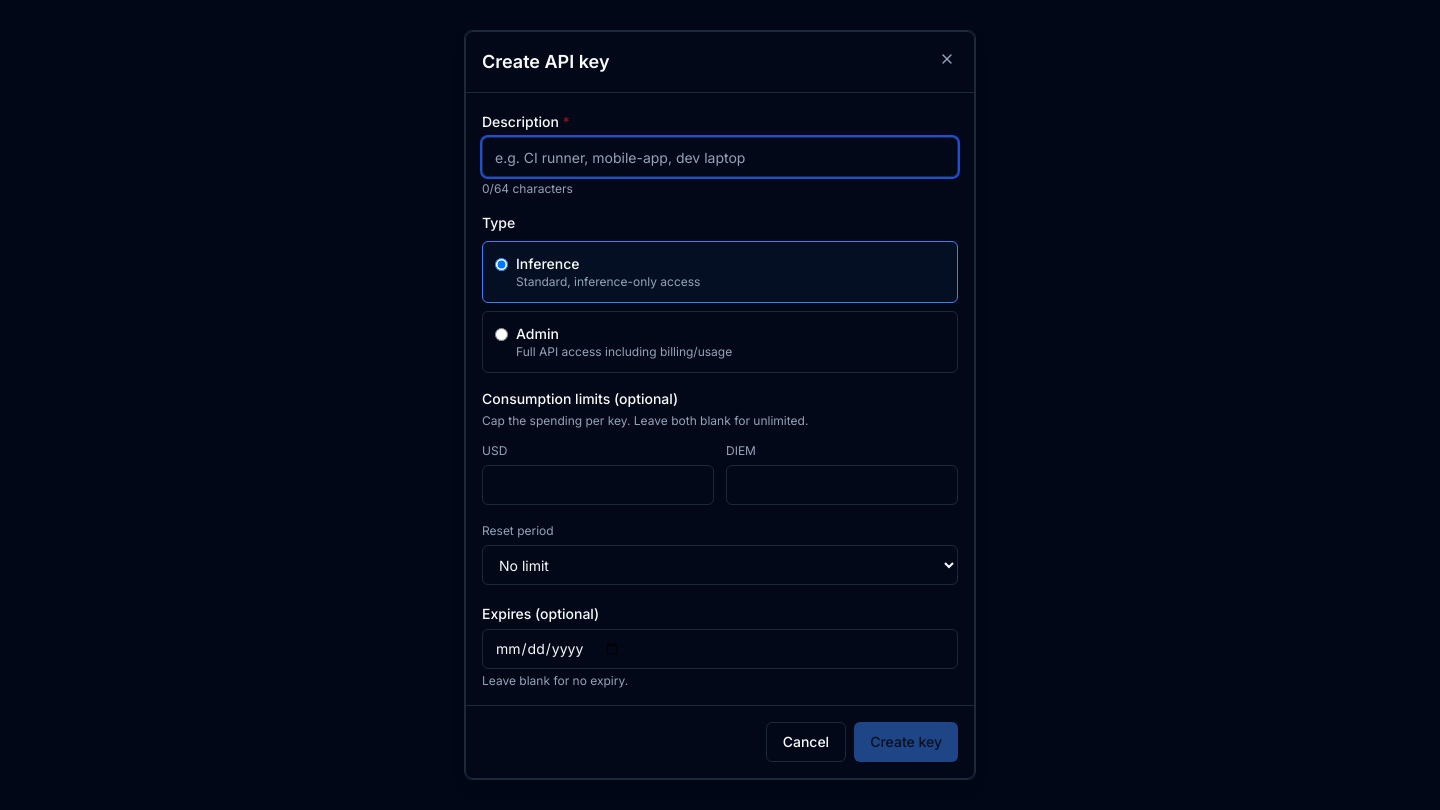
Test: ApiKeyFormModal — create mode › enables submit when description is non-empty
Type "Mobile app key" into the field labelled "Description *" at (720, 157), box [482, 137, 958, 177]
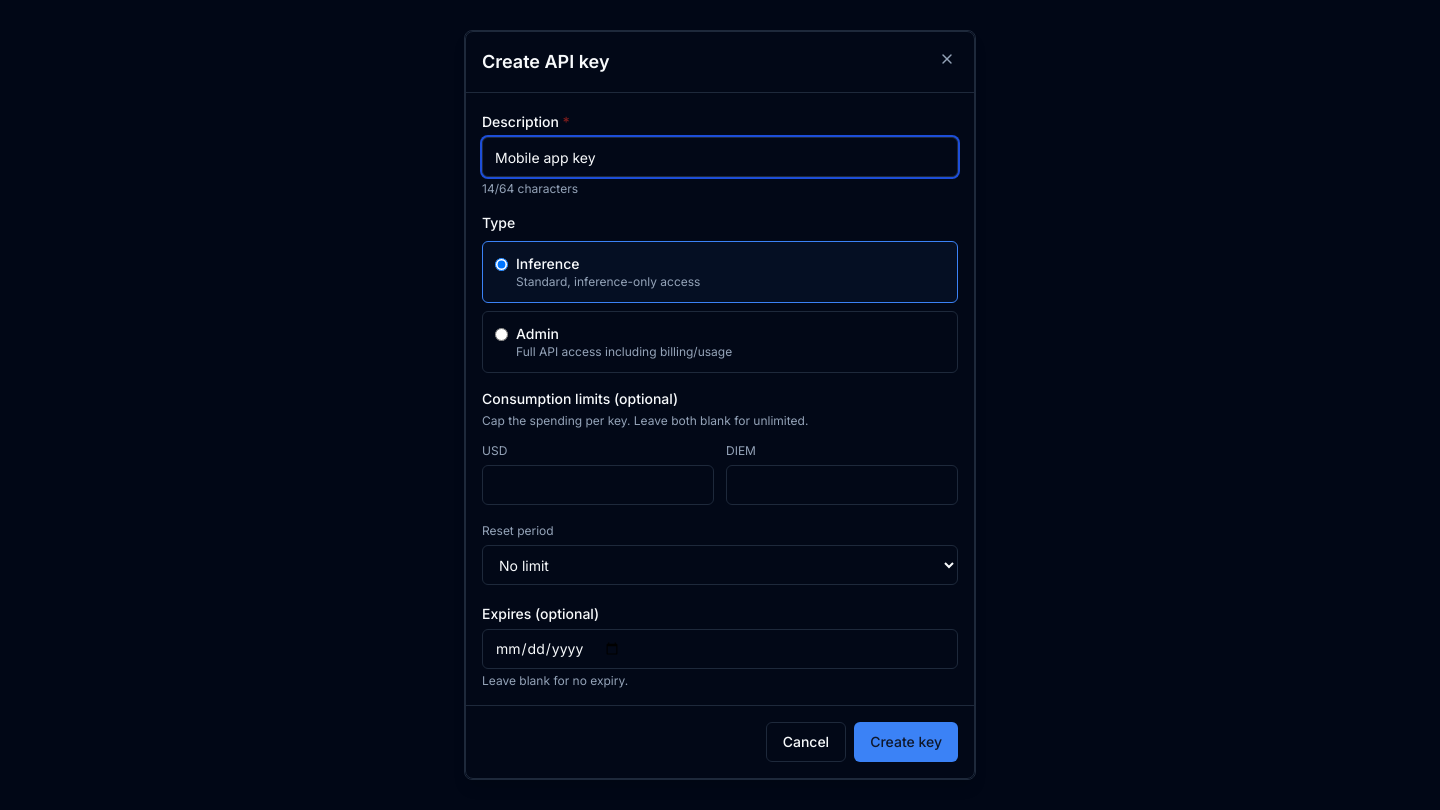
expect the button "Create key" is enabled: met, box [854, 722, 958, 762]
